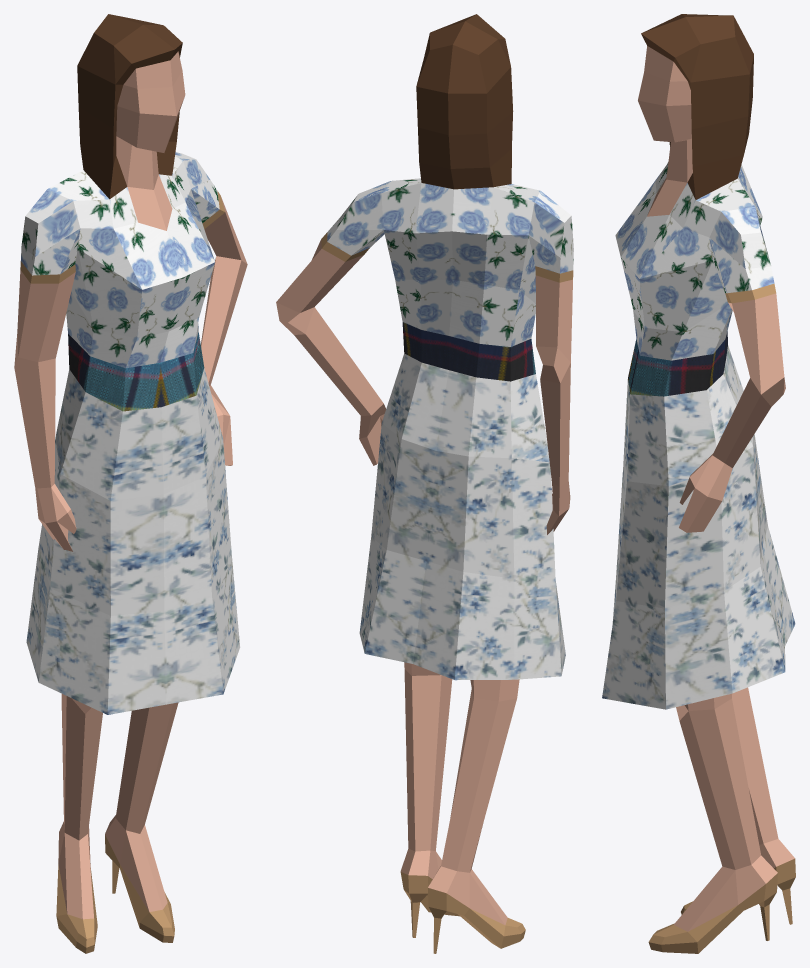
The model's file is SpringWomanC.008.glb.
3 views of the same model, side by side, from view 1: azimuth 30°, elevation 25°; view 2: azimuth 150°, elevation 25°; view 3: azimuth 270°, elevation 25° (orthographic). The views are drawn at different scales.
Visible parts, largest first — view 1: SpringWomanC.009; view 2: SpringWomanC.009; view 3: SpringWomanC.009.
Boxes of the visible parts, left/top/right/bottom form: SpringWomanC.009: left=14, top=14, right=247, bottom=953; SpringWomanC.009: left=276, top=14, right=573, bottom=953; SpringWomanC.009: left=602, top=14, right=795, bottom=953.
Bounding box in the file's own units: 0.5089 × 1.72 × 0.3243.
Materials: 1 (1 with a texture image).
